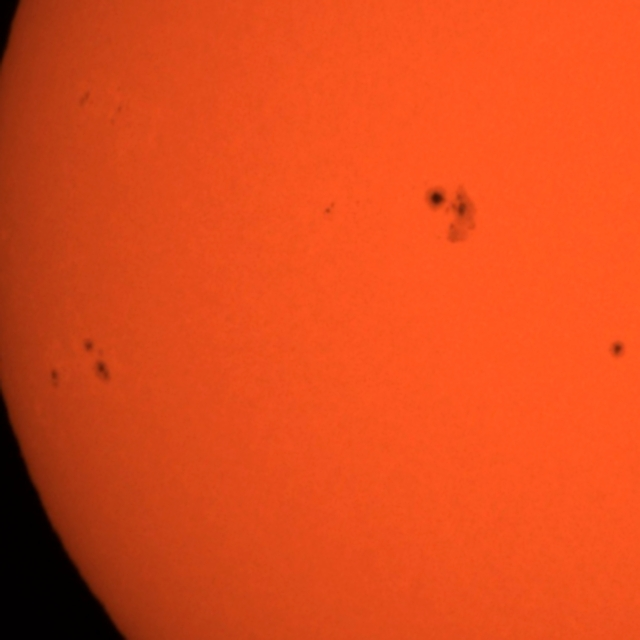sunspot: (426, 188, 482, 250), (82, 336, 112, 383), (91, 354, 113, 385), (606, 338, 628, 362), (107, 103, 125, 130), (76, 89, 95, 110), (48, 366, 62, 392), (322, 199, 338, 217)
